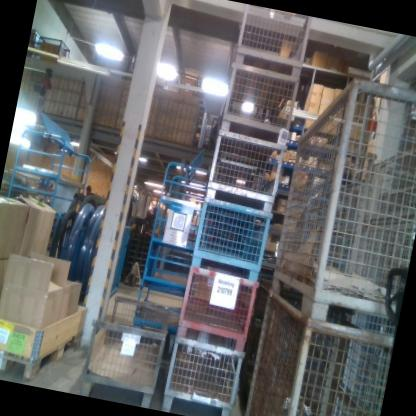pallet: (0, 314, 83, 390)
pallet_truck: (118, 211, 155, 289)
stillage: (263, 57, 416, 333), (239, 288, 399, 416), (78, 285, 175, 409), (158, 330, 248, 416), (185, 197, 273, 283), (201, 129, 290, 213), (216, 60, 301, 143), (172, 269, 259, 349), (229, 3, 315, 77)
